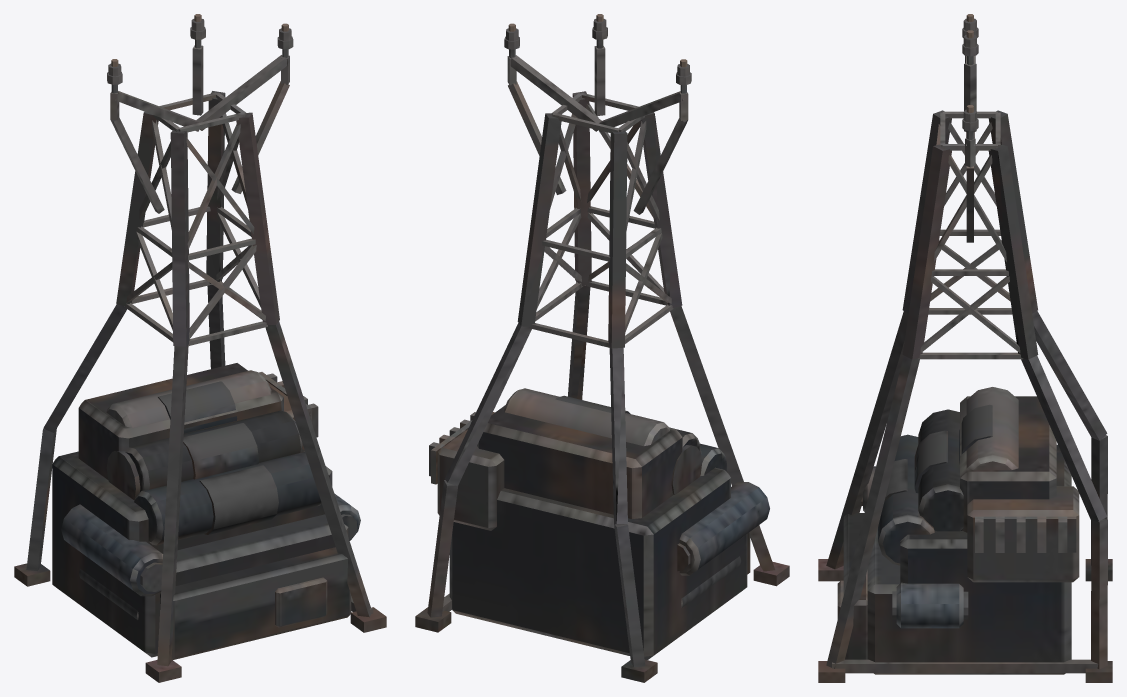
Rendered from substation.glb.
3 renders of one model, left to right at view 1: azimuth 30°, elevation 25°; view 2: azimuth 150°, elevation 25°; view 3: azimuth 270°, elevation 25°, orthographic.
Parts seen in each view (by area): view 1: body; view 2: body; view 3: body.
Part boxes in pixels (x1,y1,x2,y2): body: (14,14,386,682); body: (415,14,789,682); body: (818,14,1112,682).
Bounding box in the file's own units: 1.95 × 4.42 × 1.97.
Materials: 1 (1 with a texture image).
